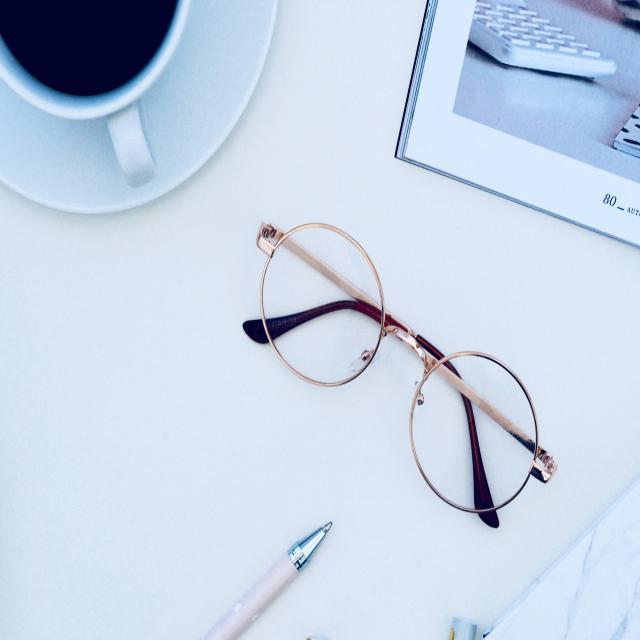Glass: (407, 352, 542, 518), (266, 226, 384, 393)
